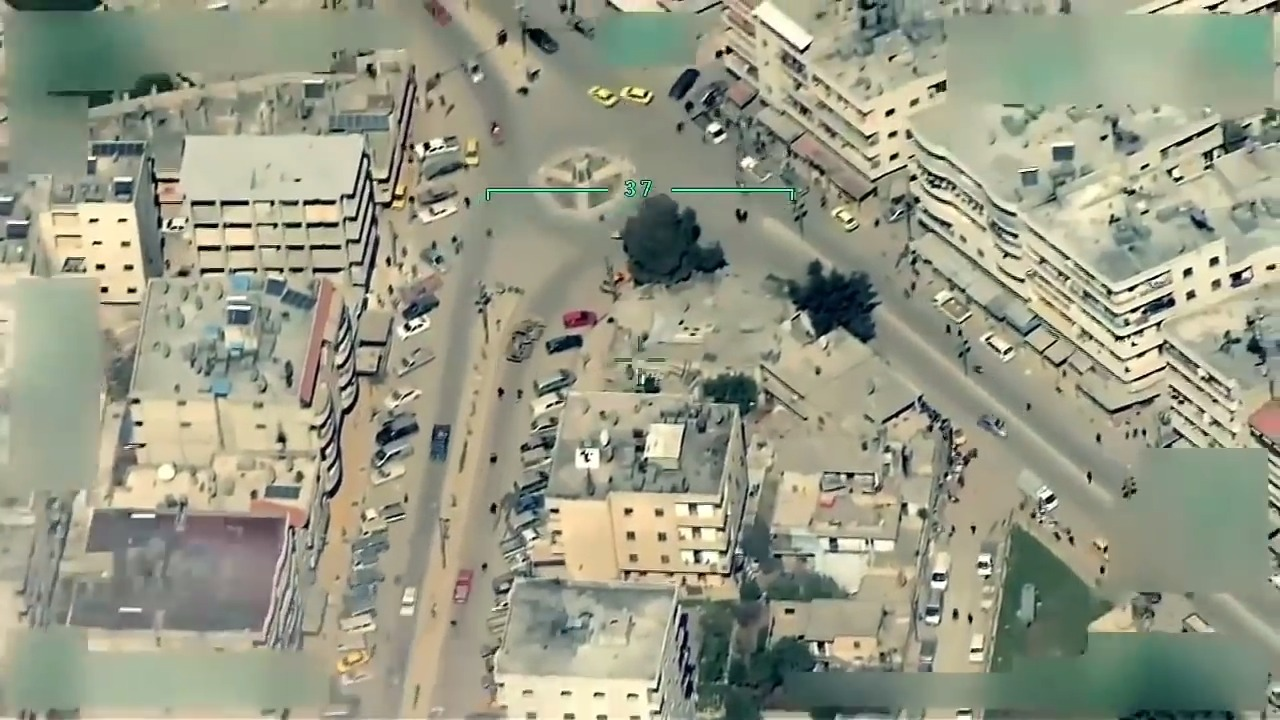arac: (401, 268, 454, 318), (733, 144, 782, 196), (366, 403, 431, 442), (930, 280, 973, 331), (392, 339, 443, 380), (978, 322, 1030, 362), (366, 453, 423, 489), (690, 107, 738, 149), (415, 125, 462, 166), (413, 195, 463, 232), (368, 435, 421, 469), (1015, 471, 1061, 509), (508, 462, 562, 494), (380, 375, 432, 408), (353, 498, 407, 528), (408, 175, 472, 200), (395, 301, 437, 339), (561, 295, 604, 332), (542, 326, 595, 356), (533, 363, 579, 397), (926, 547, 963, 588), (532, 386, 579, 416), (827, 203, 866, 235), (916, 588, 949, 625), (966, 628, 994, 667), (584, 83, 627, 108), (425, 238, 454, 274), (465, 136, 491, 172), (160, 210, 191, 236), (625, 82, 656, 103)
bina: (898, 44, 1227, 314), (1036, 128, 1280, 404), (116, 260, 356, 477), (43, 492, 309, 669), (542, 388, 766, 582), (491, 561, 723, 720), (179, 109, 385, 285), (13, 119, 153, 307)
